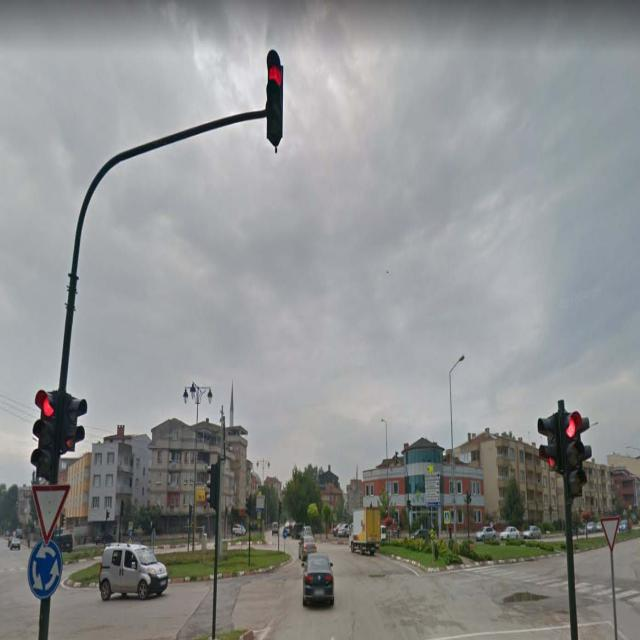kirmizi: (562, 406, 586, 497), (34, 387, 56, 476), (267, 50, 283, 145)
